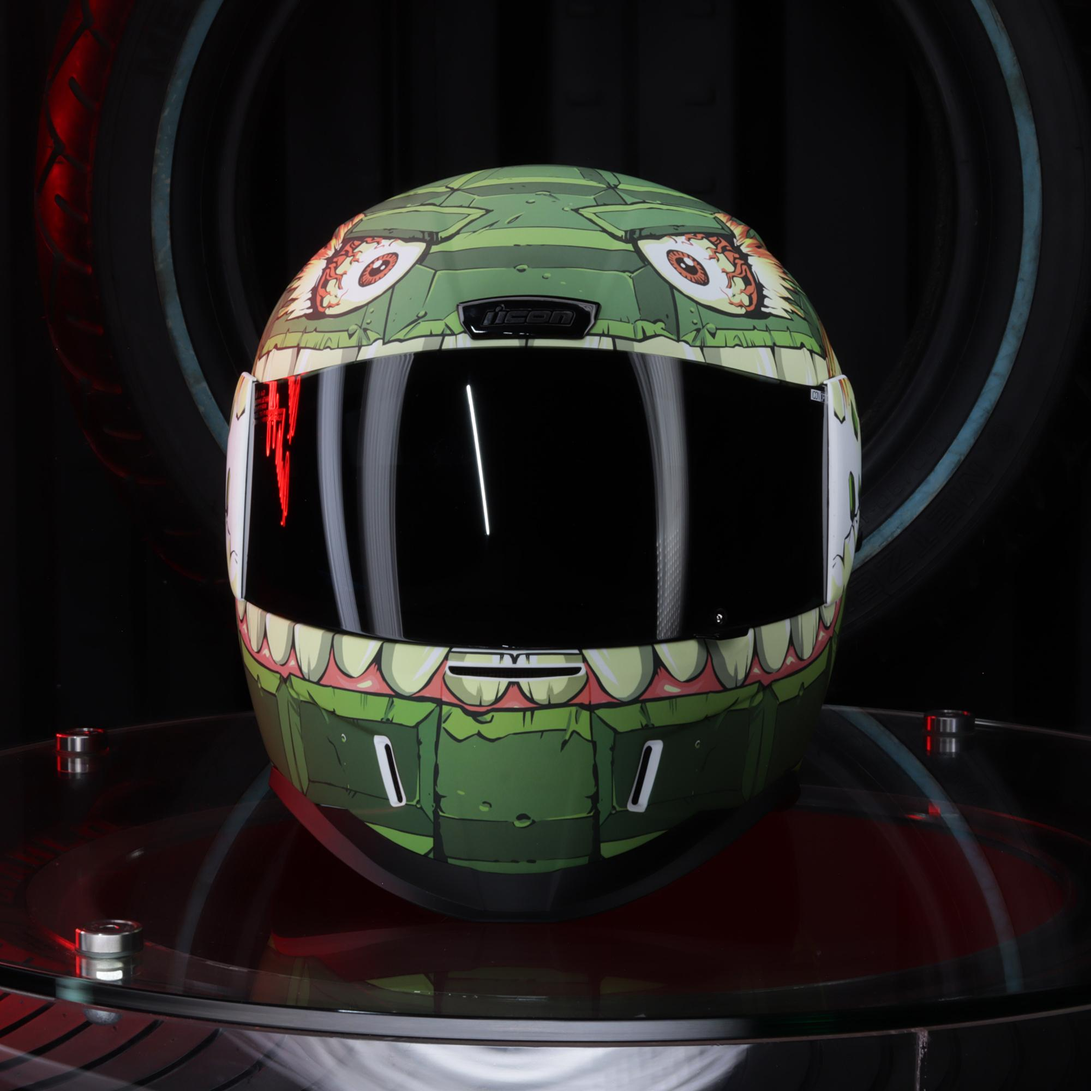helmet: (221, 160, 866, 928)
